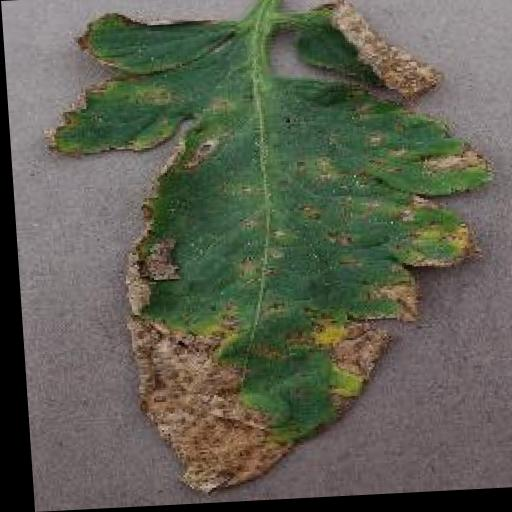Bacterial Spot: (34, 0, 508, 505)
